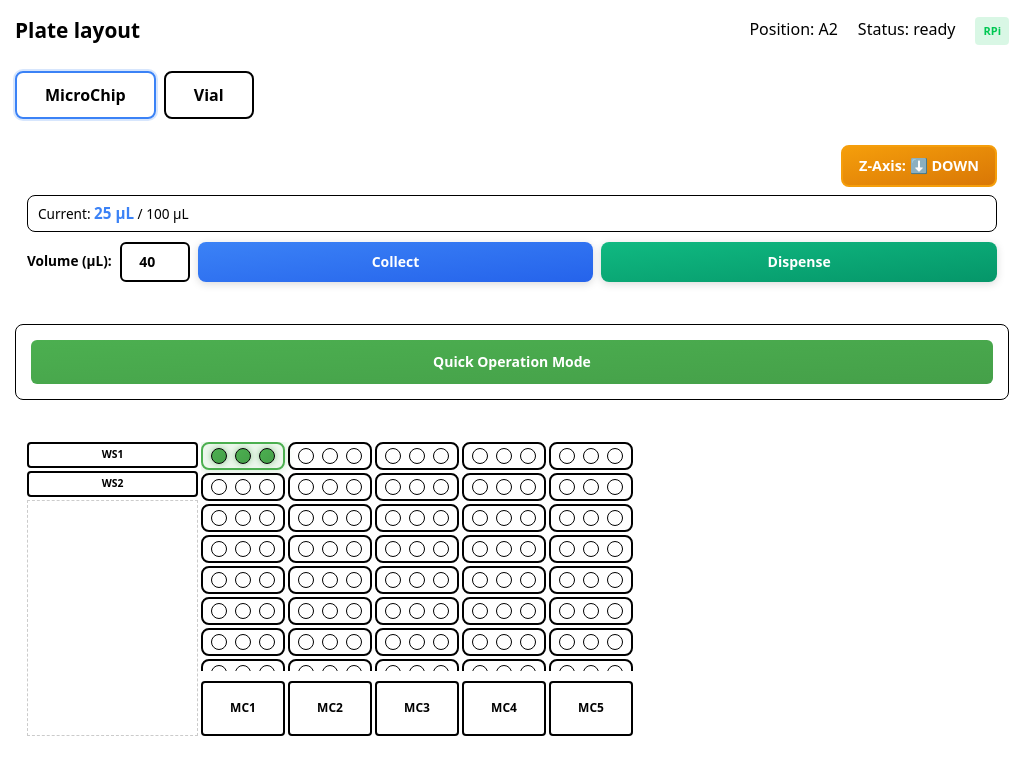
Scenario: PlateLayout › Quick Operation Mode › shows badges after selecting wells in sequence
The image size is (1024, 768).
# Enable quick op
What coordinates should you click on to do the following:
click the button "Quick Operation Mode"
I would click on:
 (512, 362)
Its box is [31, 340, 993, 384].
(page scrolled)
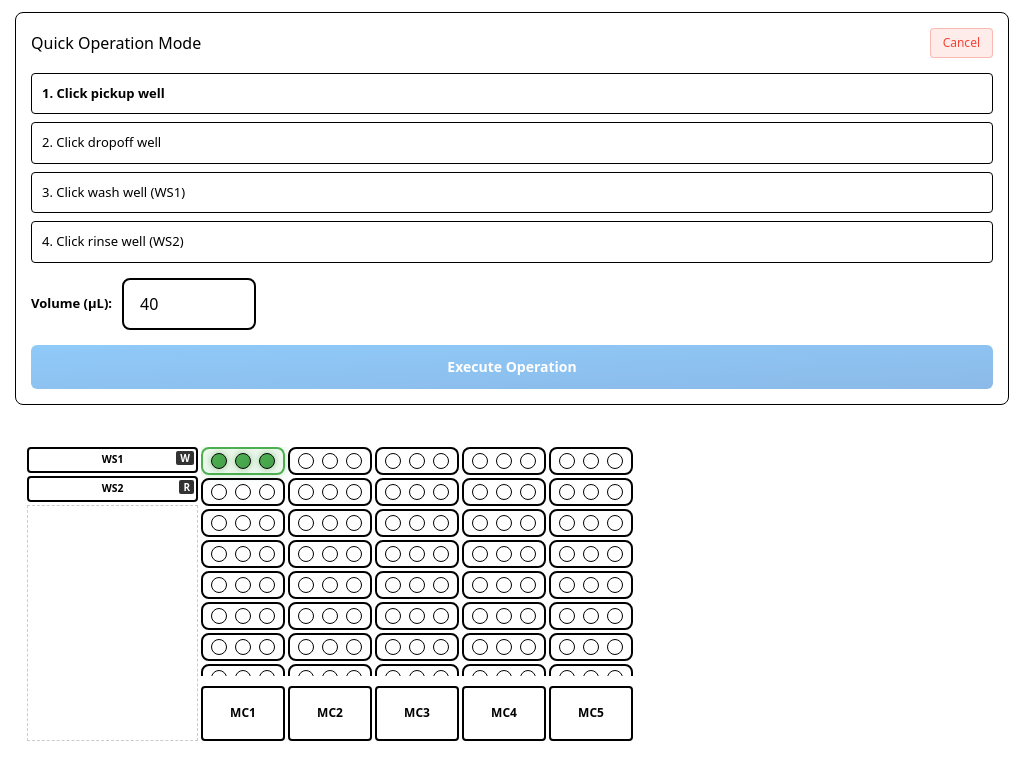
# click pickup (WS1)
What coordinates should you click on to do the following:
click the text "WS1"
I would click on:
 (112, 460)
Its box is [27, 447, 198, 473].
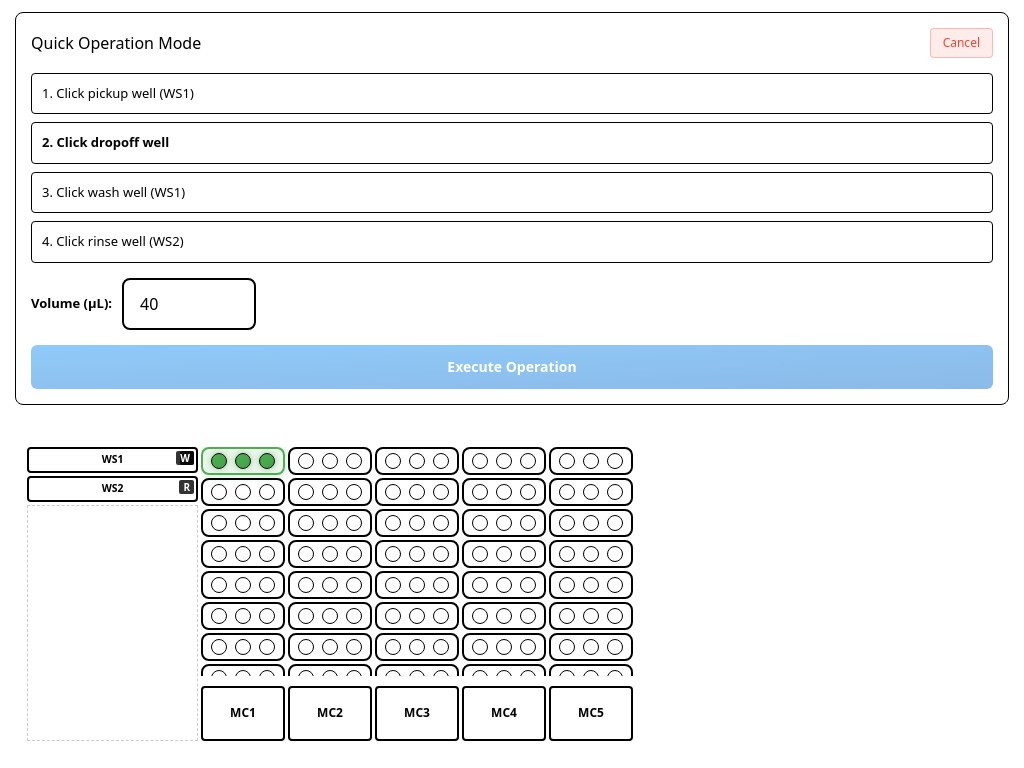
Expected: the text "P" is shown, [180, 451, 194, 465]
Expected: the text "1. Click pickup well (WS1)" is shown, [31, 73, 993, 114]
# click dropoff (WS2)
What coordinates should you click on to do the following:
click the text "WS2"
I would click on:
 (112, 489)
Its box is [27, 476, 198, 502].
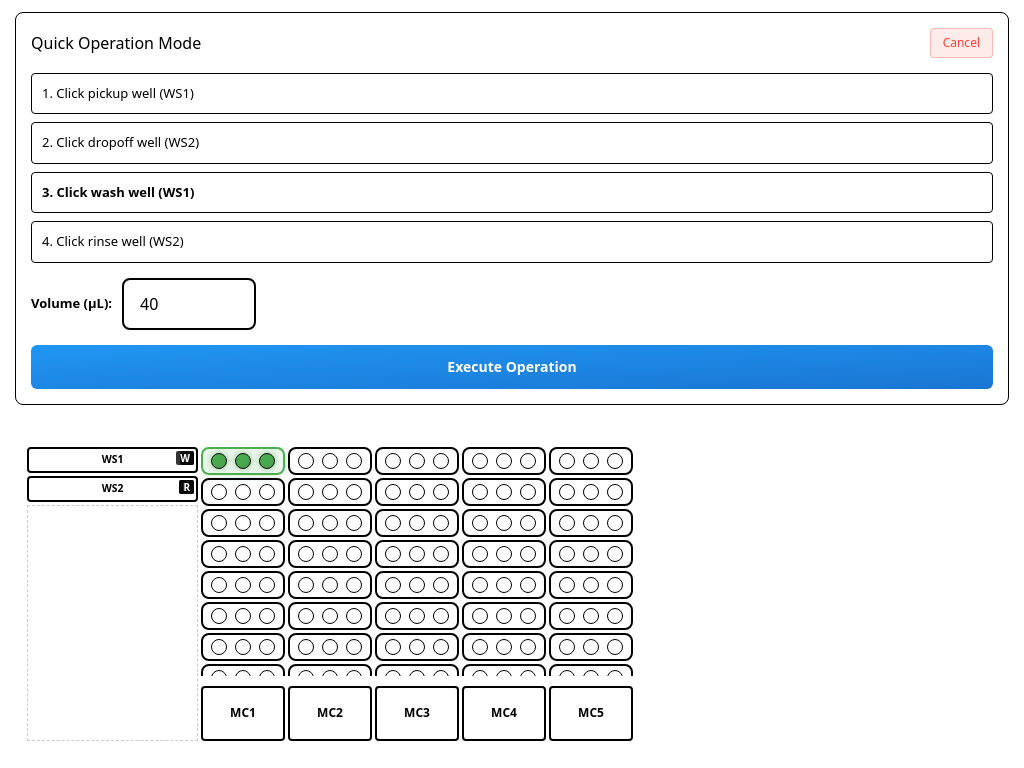
Expected: the text "D" is shown, [179, 480, 194, 494]
Expected: the text "2. Click dropoff well (WS2)" is shown, [31, 122, 993, 164]
# click wash (MC1)
What coordinates should you click on to do the following:
click the text "MC1"
I would click on:
 (243, 713)
Its box is [201, 686, 285, 741].
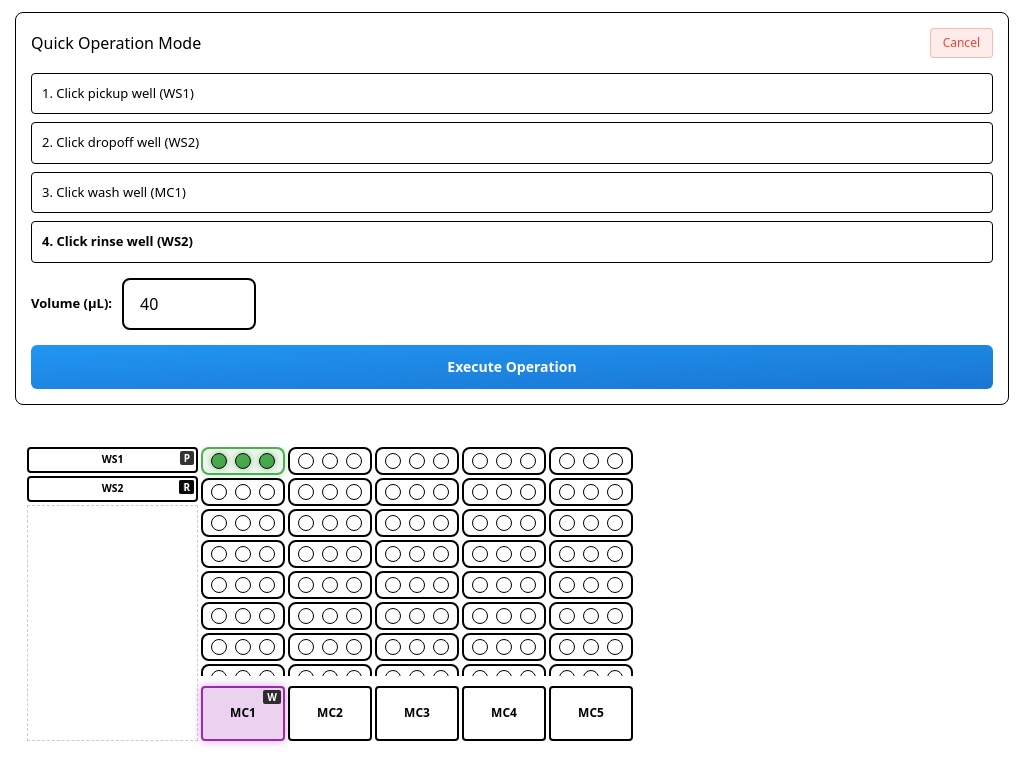
Expected: the text "W" is shown, [263, 690, 281, 704]
Expected: the text "3. Click wash well (MC1)" is shown, [31, 172, 993, 213]
# click rinse (MC2)
What coordinates should you click on to do the following:
click the text "MC2"
I would click on:
 (330, 713)
Its box is [288, 686, 372, 741].
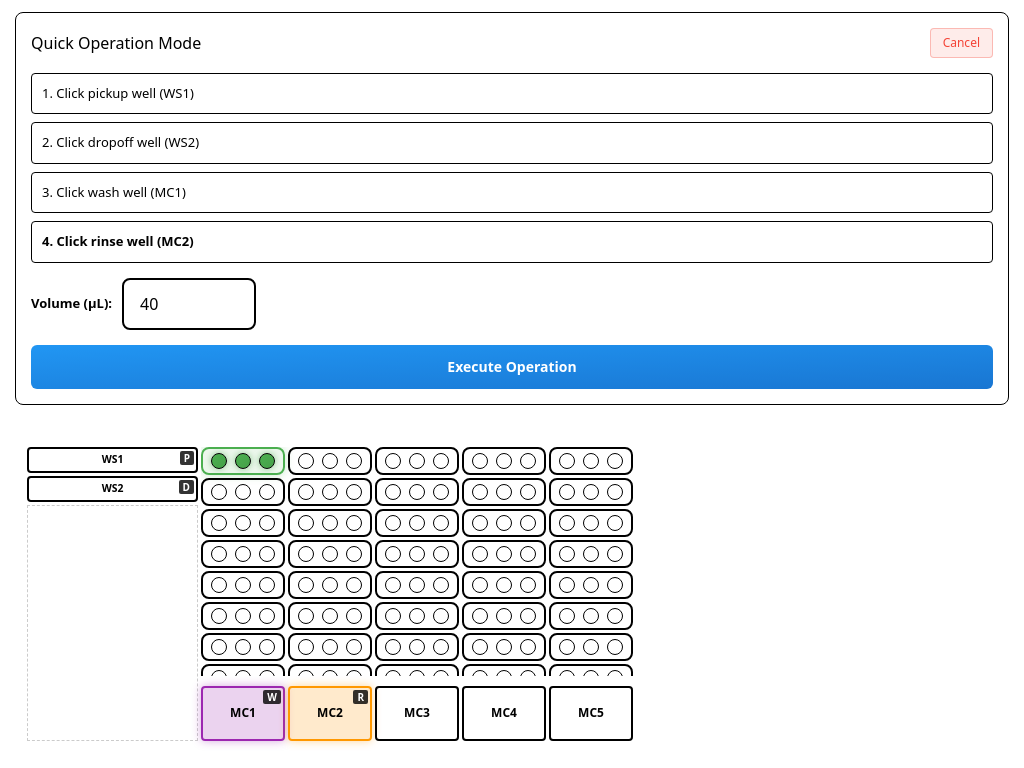
Expected: the text "R" is shown, [353, 690, 368, 704]
Expected: the text "4. Click rinse well (MC2)" is shown, [31, 221, 993, 263]
